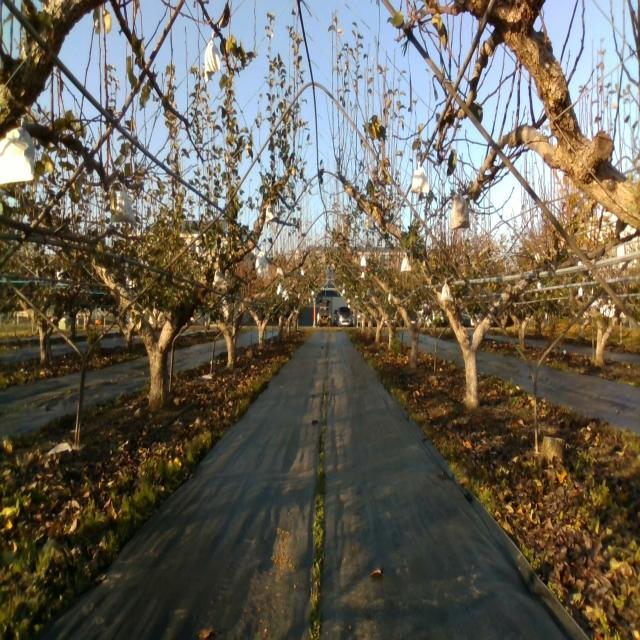pearbags: (0, 114, 36, 186), (109, 186, 137, 227), (203, 29, 222, 84), (450, 188, 470, 229), (412, 158, 430, 192), (212, 264, 228, 290), (255, 243, 268, 271), (440, 279, 454, 303), (400, 252, 413, 272)
